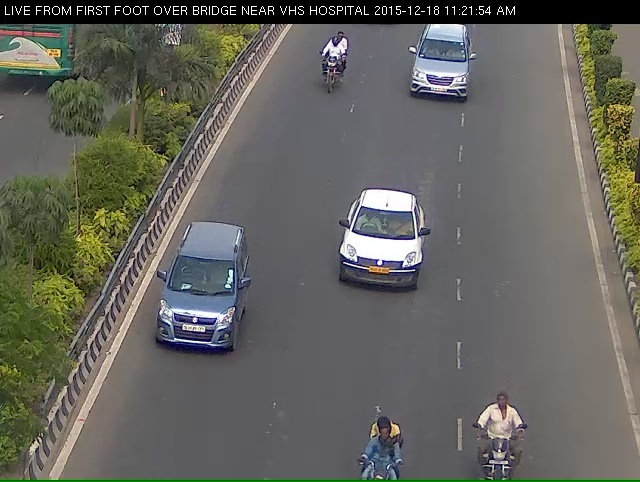Car: (149, 240, 246, 385), (334, 201, 423, 319), (407, 25, 491, 120)
Person: (312, 37, 347, 104)
